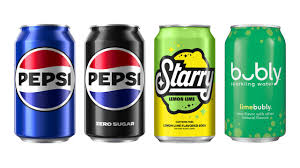can: (83, 23, 148, 144), (15, 23, 78, 145), (223, 24, 286, 146), (153, 23, 216, 144)
